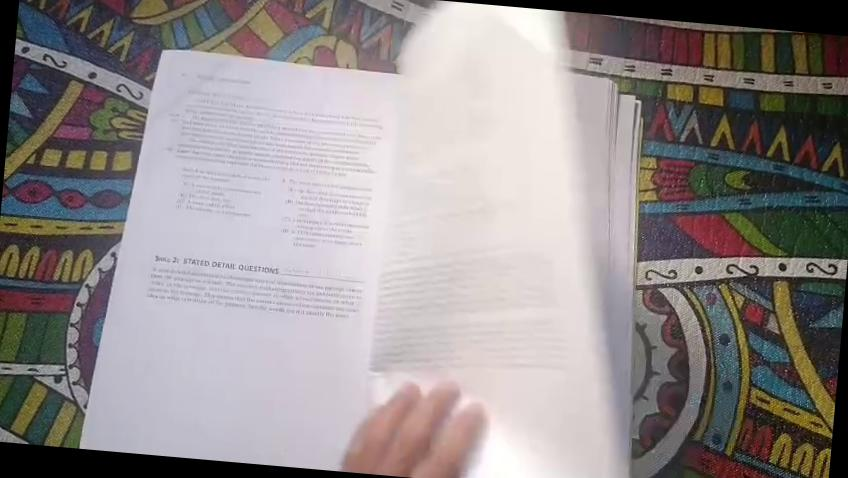Kertas: (130, 48, 374, 471), (359, 82, 644, 391)
